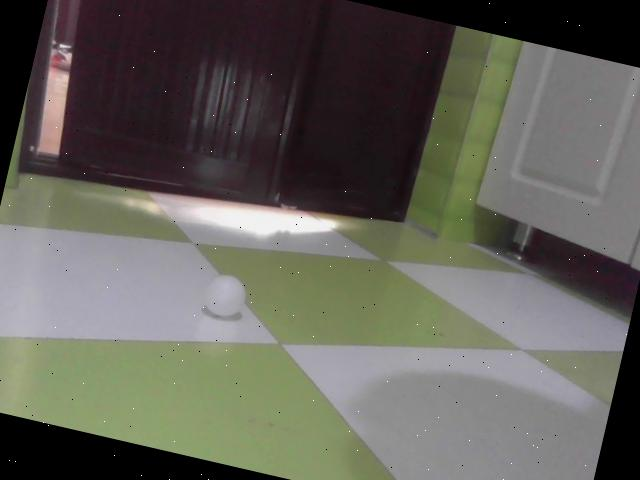ball: (202, 272, 250, 320)
